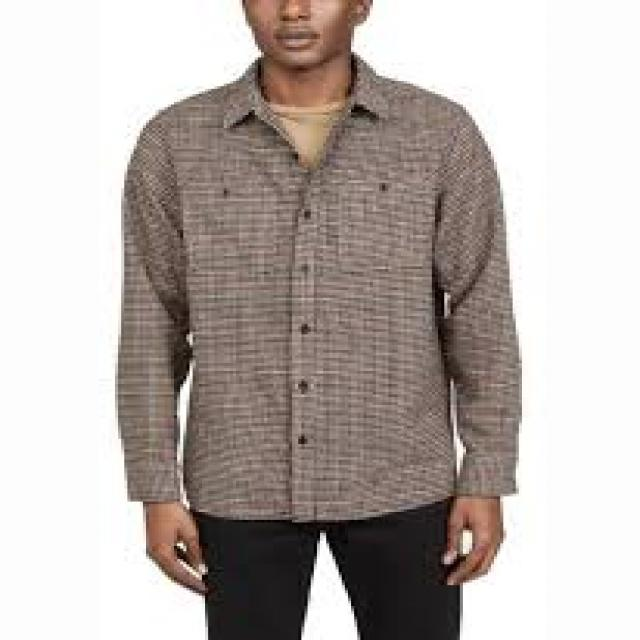plaid: (107, 69, 521, 519)
